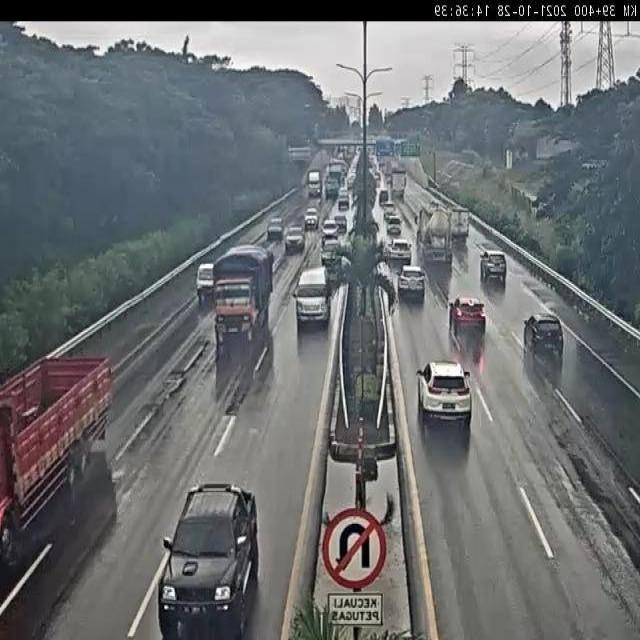Car: (416, 360, 474, 428), (522, 314, 564, 358), (448, 295, 486, 337), (396, 266, 426, 301), (480, 249, 507, 281), (387, 238, 413, 266), (320, 239, 344, 269), (196, 262, 214, 300), (284, 227, 306, 252), (266, 217, 284, 240), (321, 221, 339, 237), (305, 208, 318, 228)
Truck: (0, 352, 114, 568), (158, 481, 261, 638), (214, 243, 274, 344), (414, 200, 454, 270), (446, 206, 470, 243), (389, 168, 408, 198), (308, 170, 321, 198)
Van: (294, 268, 332, 326)
